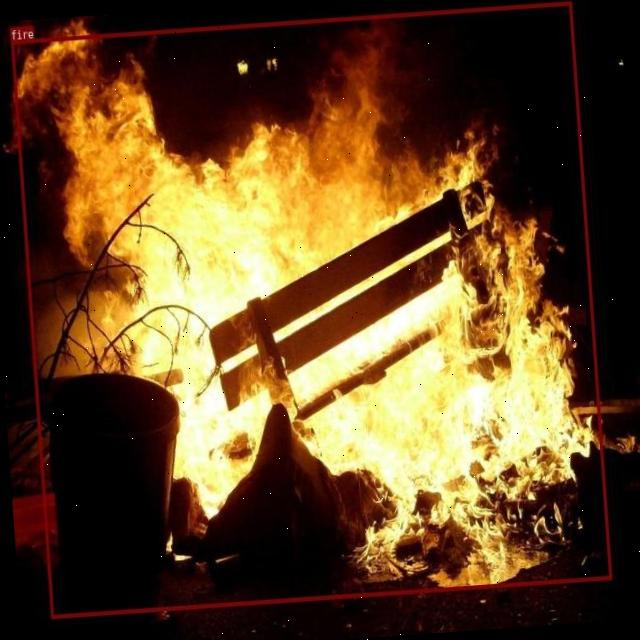fire: (10, 0, 611, 617)
